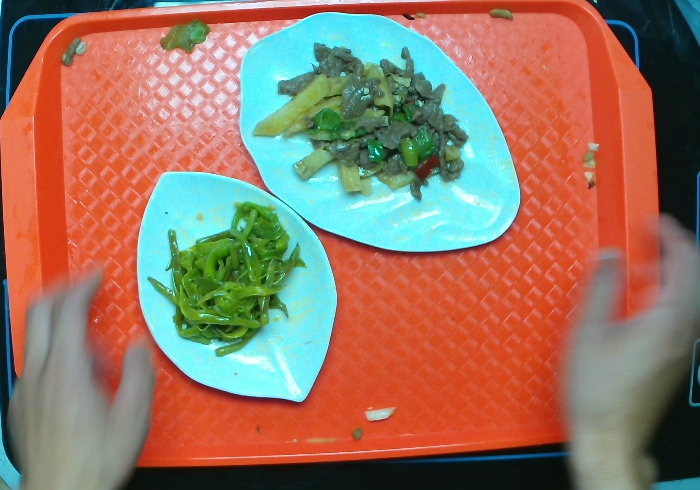RJxy-Bai_Ye_Pan: (237, 9, 522, 253)
RJxy-Da_Du_Pan: (135, 169, 339, 404)
